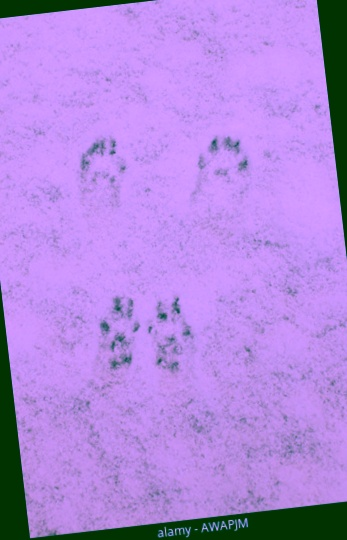ecureuil: (186, 128, 269, 246), (79, 118, 149, 232), (78, 276, 140, 390), (137, 282, 190, 390)
